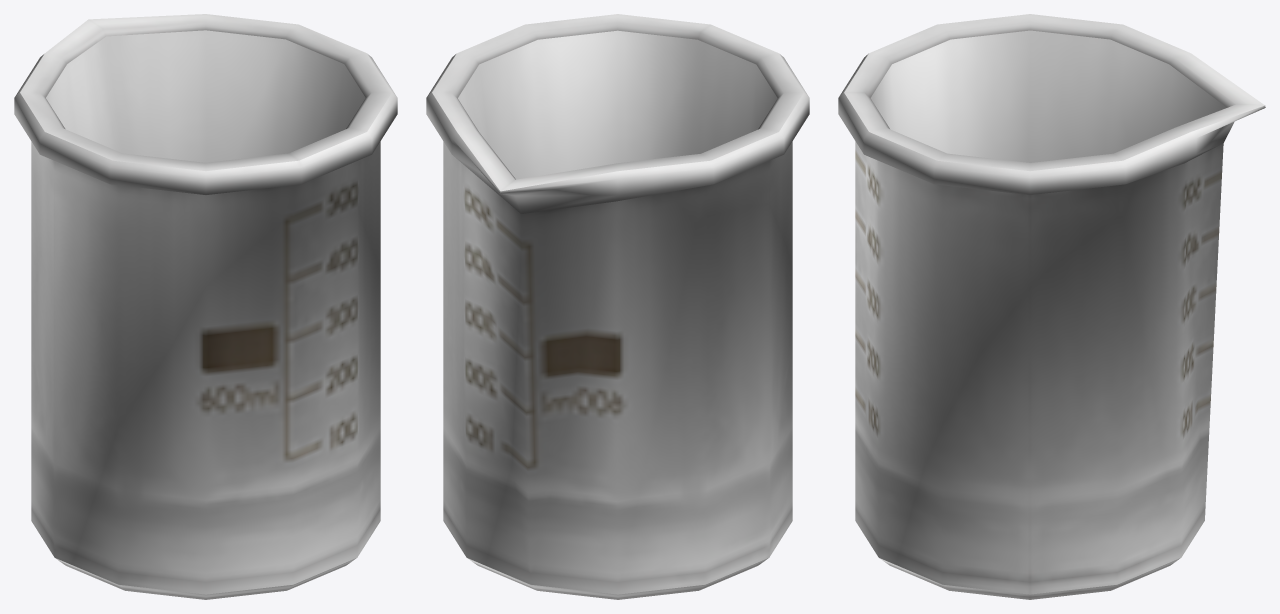
File: CeSuo_01_shaobei_01.FBX
3 views of the same model, side by side, from view 1: azimuth 30°, elevation 25°; view 2: azimuth 150°, elevation 25°; view 3: azimuth 270°, elevation 25° (orthographic).
Visible parts, largest first — view 1: CeSuo_01_shaobei_01; view 2: CeSuo_01_shaobei_01; view 3: CeSuo_01_shaobei_01.
Boxes of the visible parts, x1,y1,x2,y2 form: CeSuo_01_shaobei_01: (14, 14, 397, 599); CeSuo_01_shaobei_01: (426, 14, 809, 599); CeSuo_01_shaobei_01: (838, 14, 1265, 599).
Bounding box in the file's own units: 46.85 × 59.16 × 52.2.
